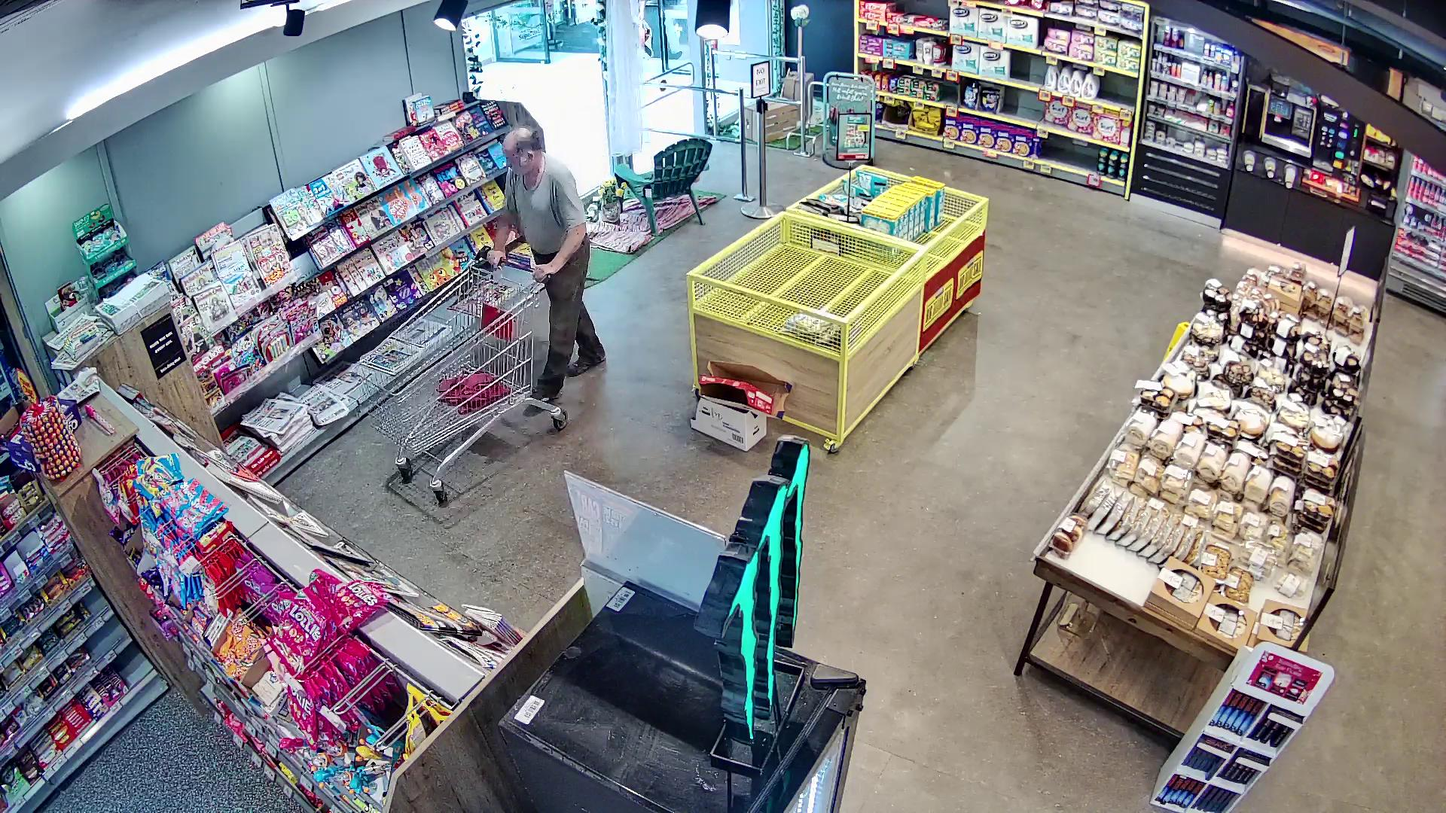empty-shopping-bags: (435, 368, 511, 414)
empty-trolly: (356, 246, 567, 505)
person: (489, 126, 606, 401)
person-with-basket-trolly-and-shopping-bag: (356, 126, 605, 506)
